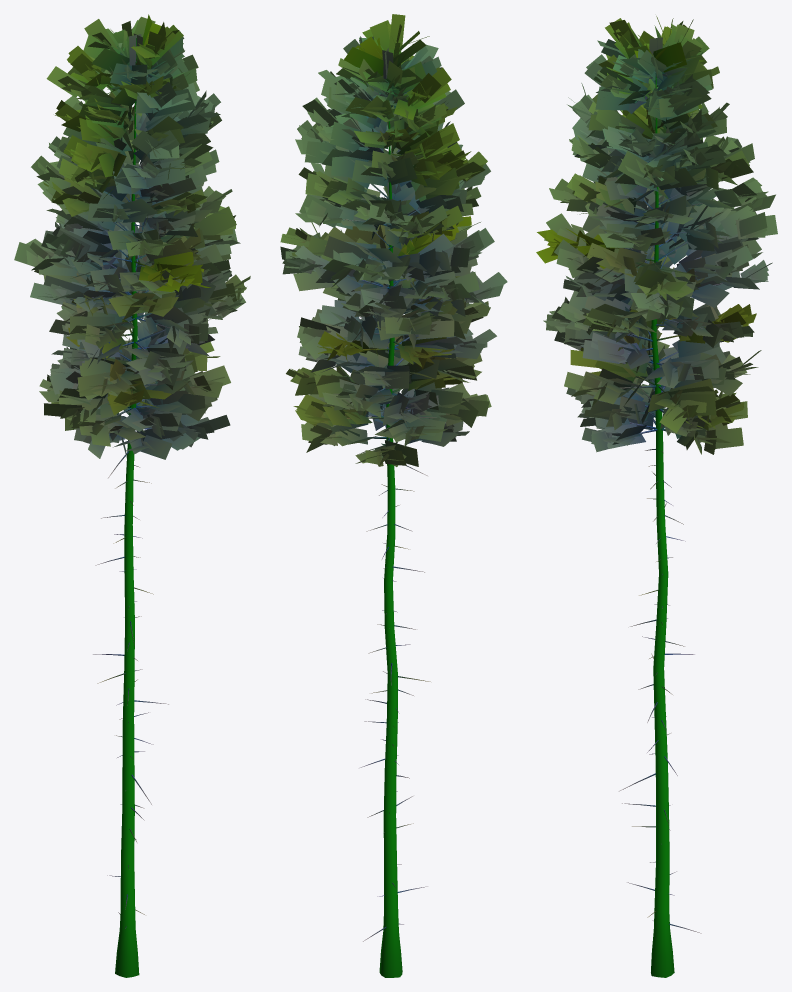
File: lodgepole_a.glb
3 renders of one model, left to right at view 1: azimuth 30°, elevation 25°; view 2: azimuth 150°, elevation 25°; view 3: azimuth 270°, elevation 25°, orthographic. The views are drawn at different scales.
Parts seen in each view (by area): view 1: LOD0; view 2: LOD0; view 3: LOD0.
Part boxes in pixels (x1,y1,x2,y2): LOD0: [14, 14, 250, 977]; LOD0: [280, 14, 507, 977]; LOD0: [536, 16, 777, 977].
Size of what is drawn, in the model's own units: 5.78 by 25.06 by 5.71.
